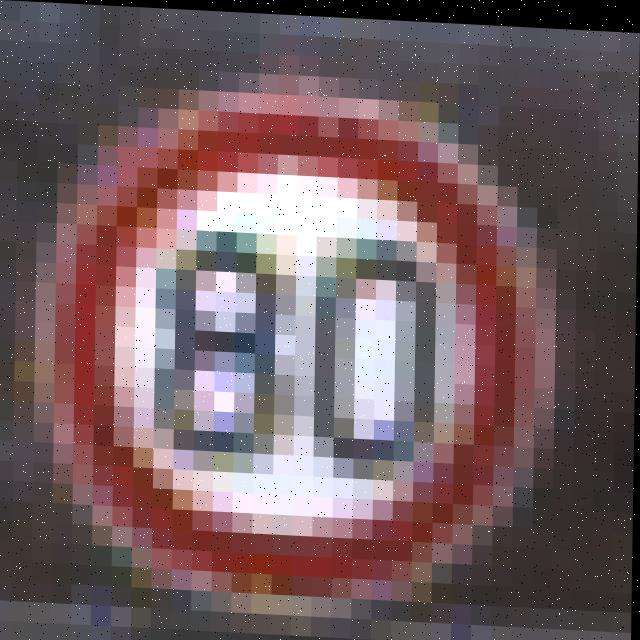speed_limit_80: (65, 96, 591, 624)
